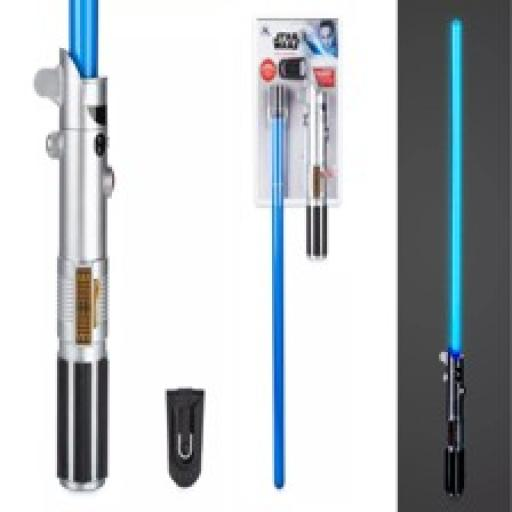lightsaber: (37, 42, 121, 495), (433, 19, 472, 504), (306, 85, 335, 258)
